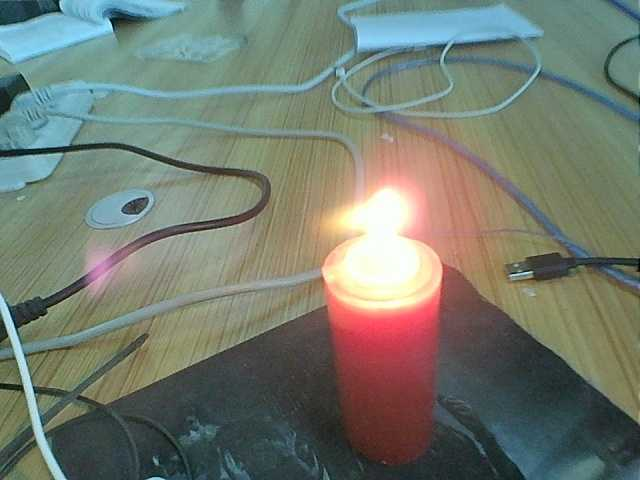candle: (302, 309, 450, 462)
fire: (323, 188, 432, 306)
